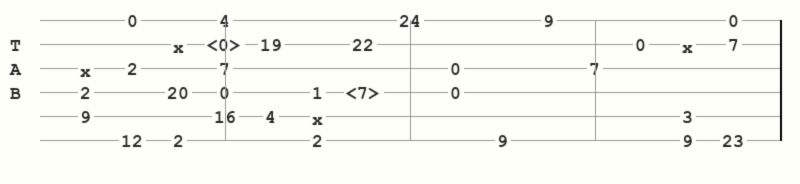0: (127, 12, 142, 28), (219, 84, 234, 100), (450, 84, 465, 100), (450, 60, 465, 76), (635, 36, 650, 52), (728, 12, 743, 28)
1: (312, 84, 327, 100)
12: (121, 132, 147, 148)
16: (214, 108, 240, 124)
19: (260, 36, 286, 52)
2: (80, 84, 95, 100), (127, 60, 142, 76), (173, 132, 188, 148), (312, 132, 327, 148)
20: (167, 84, 193, 100)
22: (352, 36, 378, 52)
23: (722, 132, 748, 148)
24: (399, 12, 425, 28)
3: (682, 108, 697, 124)
4: (219, 12, 234, 28), (265, 108, 280, 124)
7: (219, 60, 234, 76), (589, 60, 604, 76), (728, 36, 743, 52)
9: (80, 108, 95, 124), (497, 132, 512, 148), (543, 12, 558, 28), (682, 132, 697, 148)
harmonic: (207, 36, 246, 52), (346, 84, 385, 100)
x: (80, 62, 95, 74), (173, 38, 188, 50), (312, 110, 327, 122), (682, 38, 697, 50)
